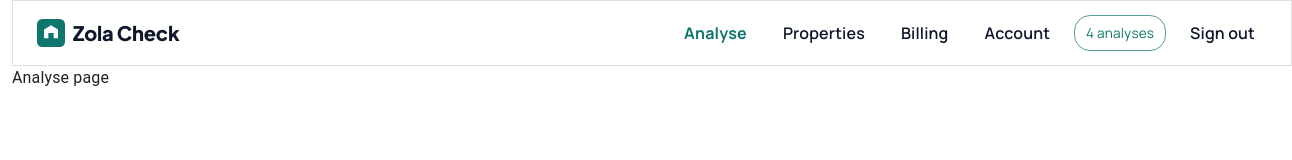
Test: AppHeader › takes a signed-in user to the landing page after sign out
This screenshot has width=1292, height=160.
Check: the text "Analyse page" is shown, box left=12, top=68, right=109, bottom=87
Click the button "Sign out": (1223, 33) left=1178, top=13, right=1267, bottom=53
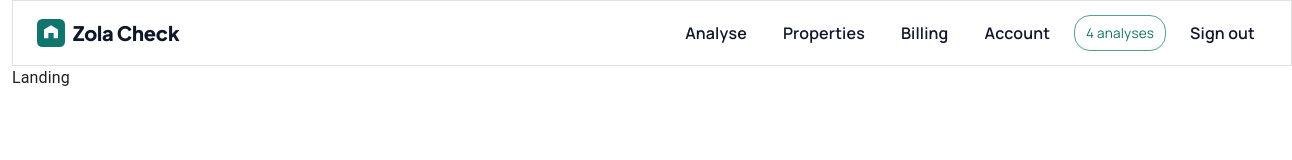
Check: the text "Landing" is shown, box left=12, top=68, right=70, bottom=87
Check: the text "Analyse page" is gone
